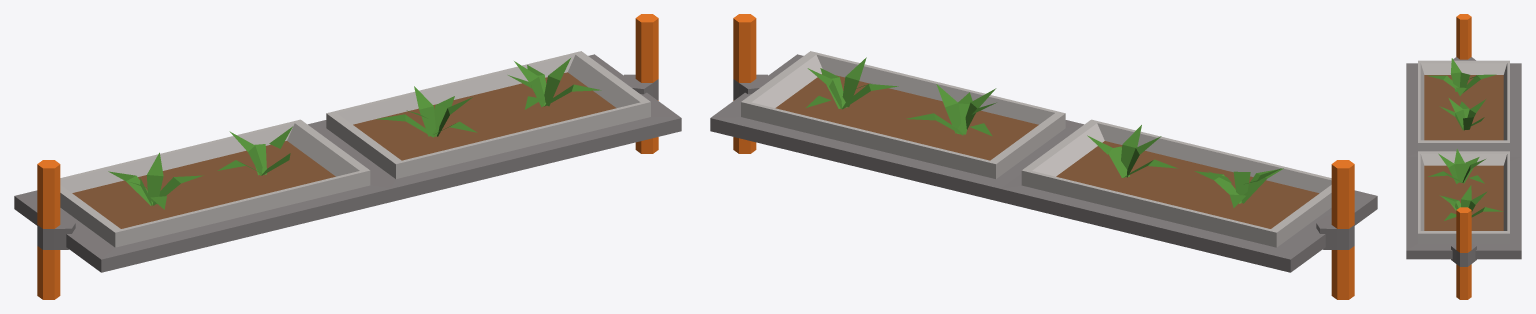
The model's file is scifi-scifi-hydroponic-shelf-middle.glb.
3 renders of one model, left to right at view 1: azimuth 30°, elevation 25°; view 2: azimuth 150°, elevation 25°; view 3: azimuth 270°, elevation 25°, orthographic. The views are drawn at different scales.
Visible parts, largest first — view 1: scifi-hydroponic-shelf-middle; view 2: scifi-hydroponic-shelf-middle; view 3: scifi-hydroponic-shelf-middle.
Boxes of the visible parts, left/top/right/bottom form: scifi-hydroponic-shelf-middle: left=14, top=14, right=681, bottom=299; scifi-hydroponic-shelf-middle: left=710, top=14, right=1377, bottom=299; scifi-hydroponic-shelf-middle: left=1406, top=14, right=1521, bottom=299.
Size of the model in its own units: 2.45 by 0.5 by 0.6.
